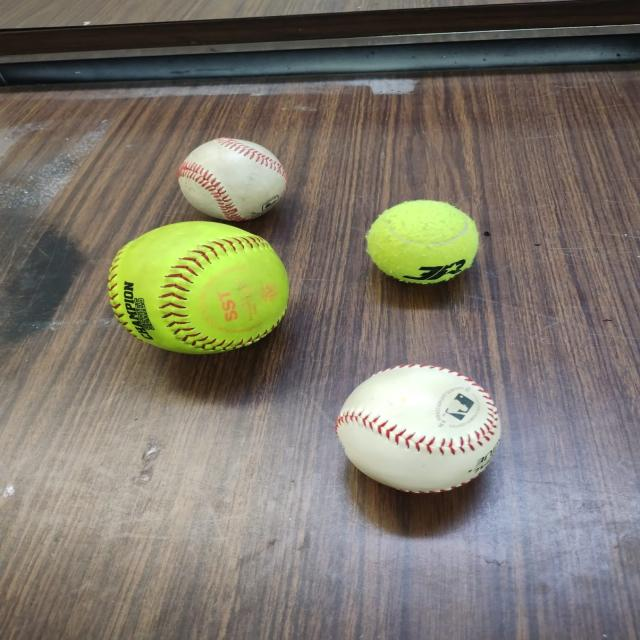beisbol ball: (329, 358, 506, 497), (178, 137, 289, 220)
softball ball: (107, 222, 290, 353)
tenis ball: (364, 198, 481, 284)
